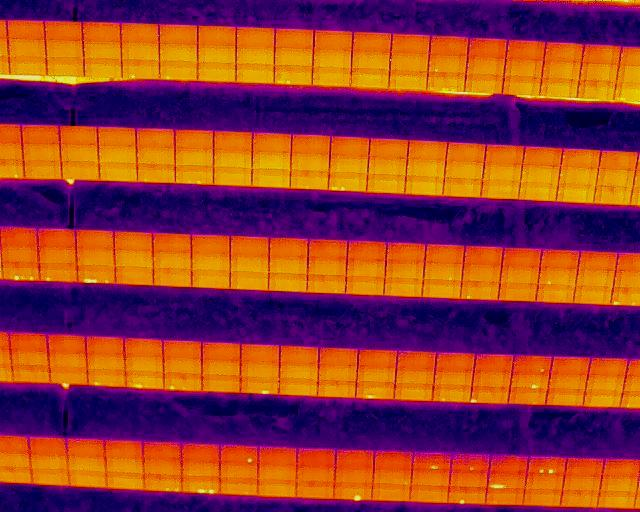Cell: (121, 59, 160, 79), (460, 281, 498, 300), (412, 453, 452, 471), (451, 453, 490, 471), (159, 61, 198, 79), (428, 55, 467, 73), (290, 171, 328, 189), (219, 445, 259, 462), (424, 263, 463, 280), (512, 356, 551, 373), (136, 165, 174, 182), (39, 264, 77, 281), (335, 483, 372, 500), (240, 377, 279, 393), (449, 488, 486, 504), (539, 268, 576, 284), (510, 374, 549, 389), (470, 387, 509, 402), (89, 370, 126, 385), (432, 387, 470, 401)
Cell-Multi: (427, 73, 466, 91), (175, 166, 213, 184), (275, 66, 313, 84), (527, 457, 567, 474), (1, 263, 40, 280), (182, 476, 221, 493), (329, 173, 366, 190), (164, 374, 202, 390), (145, 475, 182, 490)
No-Anomaly: (313, 49, 352, 70), (446, 142, 485, 163), (445, 160, 483, 181), (352, 50, 391, 70), (252, 133, 291, 153), (406, 175, 443, 196), (407, 159, 445, 179), (596, 169, 634, 189), (444, 178, 482, 198), (352, 68, 390, 88), (45, 21, 83, 41), (258, 446, 297, 465), (425, 244, 464, 263), (313, 66, 352, 85), (504, 59, 543, 78), (46, 58, 85, 77), (369, 139, 408, 158), (238, 27, 277, 46), (7, 20, 46, 39), (307, 274, 346, 293), (292, 135, 331, 154), (59, 127, 98, 146), (213, 132, 252, 151), (483, 180, 520, 200), (485, 144, 522, 164), (550, 357, 591, 375), (435, 353, 476, 371), (38, 229, 76, 248), (192, 269, 230, 288), (430, 36, 468, 55), (8, 39, 46, 58), (160, 43, 198, 62), (67, 438, 105, 457), (144, 440, 182, 459), (521, 164, 559, 183), (469, 38, 507, 57), (77, 230, 115, 249), (484, 163, 522, 182), (589, 357, 627, 376), (175, 149, 213, 168), (389, 71, 427, 90), (236, 64, 274, 83), (160, 25, 198, 44), (98, 128, 136, 147), (61, 144, 99, 163), (524, 147, 562, 166), (231, 271, 269, 290), (581, 63, 619, 82), (251, 152, 291, 170), (114, 249, 154, 267), (352, 32, 392, 50), (274, 30, 314, 48), (392, 35, 429, 54), (541, 249, 578, 268), (391, 53, 428, 72), (408, 140, 445, 159), (561, 149, 598, 168), (347, 276, 384, 295), (466, 74, 503, 93), (251, 170, 290, 188), (557, 184, 596, 202), (230, 237, 269, 255), (197, 45, 236, 63), (545, 43, 584, 61), (46, 40, 85, 58), (559, 166, 598, 184), (307, 256, 346, 274), (384, 278, 423, 296), (423, 280, 462, 298), (120, 24, 159, 42), (197, 63, 236, 81), (22, 143, 61, 161), (21, 125, 60, 143), (498, 283, 537, 301), (86, 336, 125, 354), (198, 26, 237, 44), (578, 81, 617, 99), (473, 355, 514, 372), (599, 151, 637, 169), (292, 154, 330, 172), (367, 175, 405, 193), (520, 183, 558, 201), (192, 252, 230, 270), (347, 257, 385, 275), (116, 266, 154, 284), (373, 483, 411, 501), (214, 168, 252, 186), (330, 155, 368, 173), (154, 250, 192, 268), (115, 230, 153, 248), (258, 463, 296, 481), (504, 77, 540, 96), (83, 23, 119, 42), (98, 145, 136, 163), (236, 46, 274, 64), (125, 339, 163, 357), (175, 131, 213, 149), (331, 138, 369, 156), (213, 151, 251, 169), (269, 274, 307, 292), (48, 334, 86, 352), (358, 350, 396, 368), (314, 31, 352, 49), (584, 45, 620, 64), (84, 59, 122, 77), (463, 246, 503, 263), (583, 391, 623, 408), (410, 485, 450, 502), (463, 263, 500, 281), (508, 40, 545, 58), (182, 442, 219, 460), (84, 41, 121, 59), (62, 161, 99, 179), (10, 334, 47, 352), (543, 61, 580, 79), (39, 248, 78, 265), (385, 261, 424, 278), (1, 246, 40, 263), (565, 458, 604, 475), (386, 243, 425, 260), (308, 239, 347, 256), (576, 269, 615, 286), (23, 161, 62, 178), (500, 266, 539, 283), (397, 352, 436, 369), (136, 148, 175, 165), (603, 458, 639, 476), (595, 185, 631, 203), (574, 286, 610, 304), (368, 158, 406, 175), (99, 164, 137, 181), (192, 235, 230, 252), (269, 239, 307, 256), (270, 256, 308, 273), (220, 462, 258, 479), (375, 452, 413, 469), (503, 248, 541, 265), (153, 232, 191, 249), (0, 228, 38, 245), (121, 43, 159, 60), (579, 252, 617, 269), (154, 268, 192, 285), (467, 57, 505, 74), (137, 131, 175, 148), (394, 384, 432, 401), (163, 342, 201, 359), (202, 344, 240, 361), (275, 49, 313, 66), (521, 490, 561, 506), (67, 457, 107, 473), (585, 376, 625, 392), (106, 439, 143, 456), (220, 478, 257, 495), (33, 469, 70, 486), (537, 285, 574, 302), (540, 80, 577, 97), (9, 57, 46, 74), (347, 241, 386, 257), (181, 461, 220, 477), (297, 449, 336, 465), (318, 366, 357, 382), (317, 382, 356, 398), (319, 349, 358, 365), (87, 354, 126, 370), (240, 346, 279, 362), (279, 347, 318, 363), (547, 390, 585, 406), (297, 465, 335, 481), (412, 470, 450, 486), (563, 474, 601, 490), (337, 452, 375, 468), (486, 488, 524, 504), (560, 491, 598, 507), (600, 476, 638, 492), (525, 474, 563, 490), (144, 459, 182, 475), (203, 376, 241, 392), (202, 360, 240, 376), (164, 358, 202, 374), (279, 364, 317, 380), (508, 389, 546, 405), (472, 372, 512, 387), (298, 482, 335, 498), (451, 471, 488, 487), (107, 457, 144, 473), (11, 352, 48, 368), (373, 470, 412, 485), (258, 481, 297, 496), (241, 362, 280, 377), (434, 372, 473, 387), (30, 437, 66, 453), (231, 256, 269, 271), (336, 469, 374, 484), (107, 474, 145, 489), (489, 455, 527, 470), (77, 249, 115, 264), (12, 368, 50, 383), (548, 375, 588, 389), (395, 371, 435, 385), (30, 454, 67, 469), (70, 473, 107, 488), (51, 369, 88, 384), (49, 353, 86, 368), (598, 492, 637, 506), (357, 368, 395, 382), (126, 358, 164, 372), (280, 380, 317, 394), (0, 436, 30, 453), (0, 469, 32, 484), (0, 453, 31, 468)
Unclassified: (78, 265, 115, 283), (488, 471, 525, 488), (355, 383, 394, 399), (126, 373, 163, 389)
